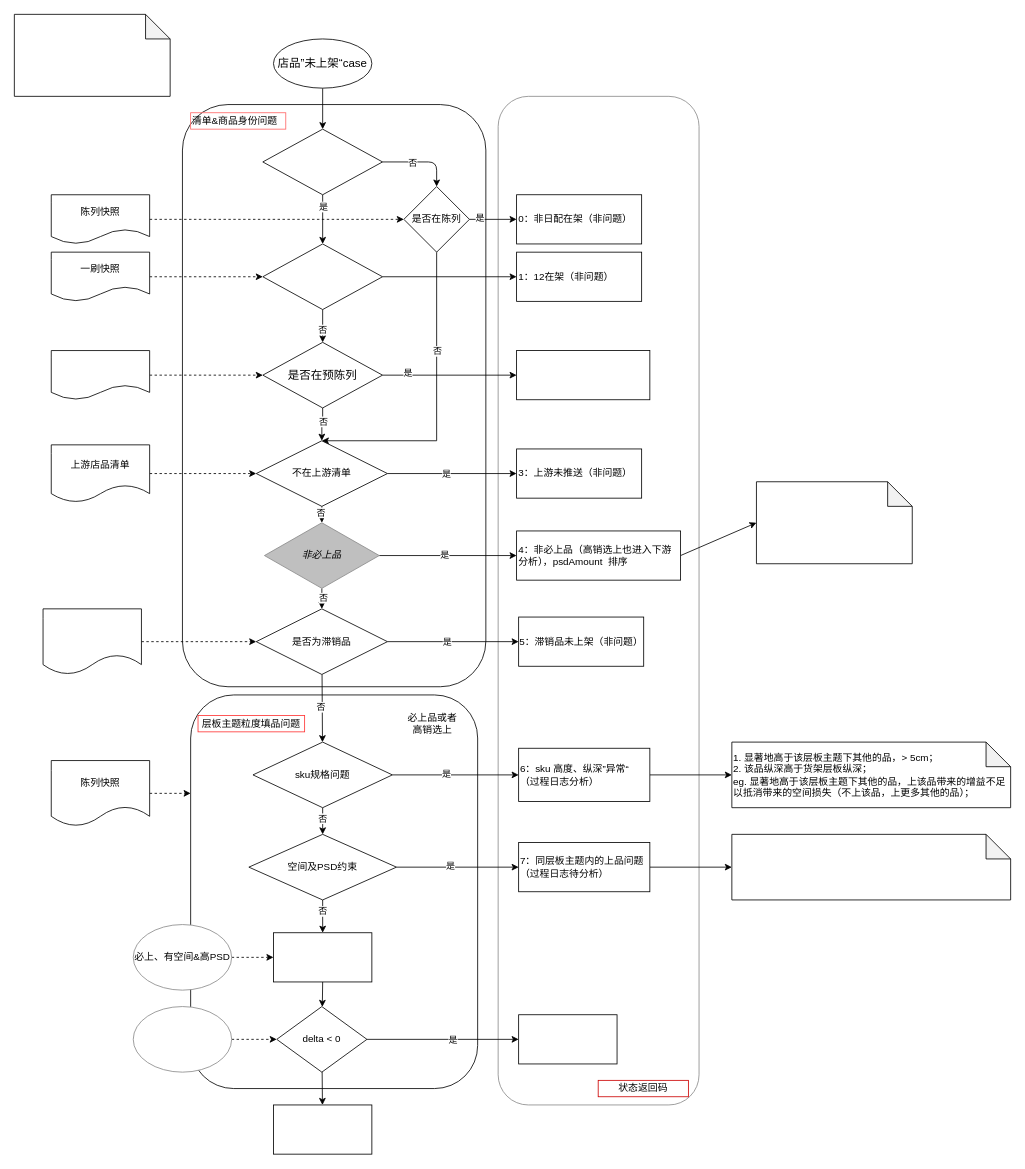
Some shapes in this 1025 by 1169 pixel diagram are drawn without their labels. The shapes that lost their labels are listed below. From the top down, each one's centre as x and y in pixels, then its label:
At pixel 92 55: "1. 周对周店品推动 w-2 周四； 2. 周对周快照下发 w-1 周四； 统一用生效周或生效日（12一刷）".
At pixel 322 161: "是否为”未在风幕上架“".
At pixel 322 276: "是否在一刷".
At pixel 100 375: "预陈列快照".
At pixel 583 375: "2：不可订货（非问题），在预陈列而不在一刷".
At pixel 834 522: "目前（20210301） psdAmount取的是商品部给的 expectedGain 值".
At pixel 91 641: "店品滞销品清单".
At pixel 871 867: "1. 该层板主题内的上品都是必上&该品为选上品； 2. 该层板主题内的上品有选上品&该品PSD较低；".
At pixel 322 957: "调用运筹接口 （周对周、12）".
At pixel 182 1039: "delta = 在架目标-不在架目标".
At pixel 567 1039: "8：运筹填品问题".
At pixel 322 1129: "9. 上架收益低".
